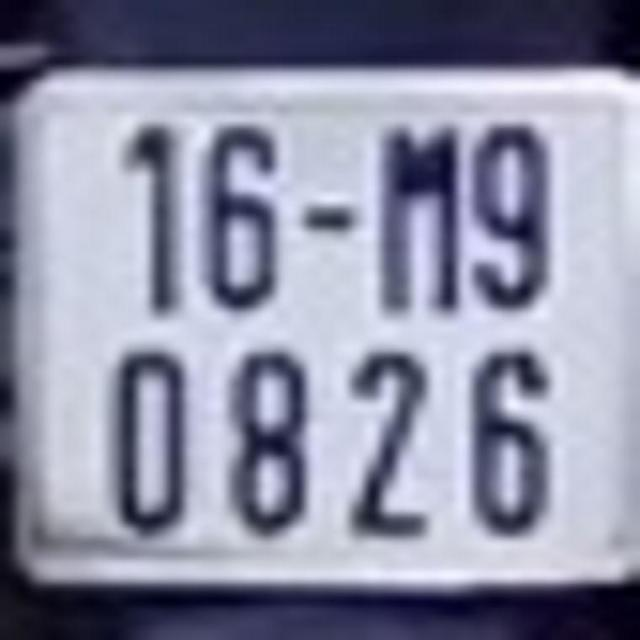0: (108, 340, 190, 535)
1: (123, 118, 176, 314)
2: (347, 344, 429, 536)
6: (470, 343, 550, 536), (203, 123, 279, 311)
8: (228, 348, 306, 536)
9: (468, 120, 552, 311)
M: (376, 116, 461, 316)
